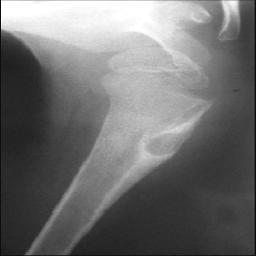cancer: (124, 118, 195, 186)
